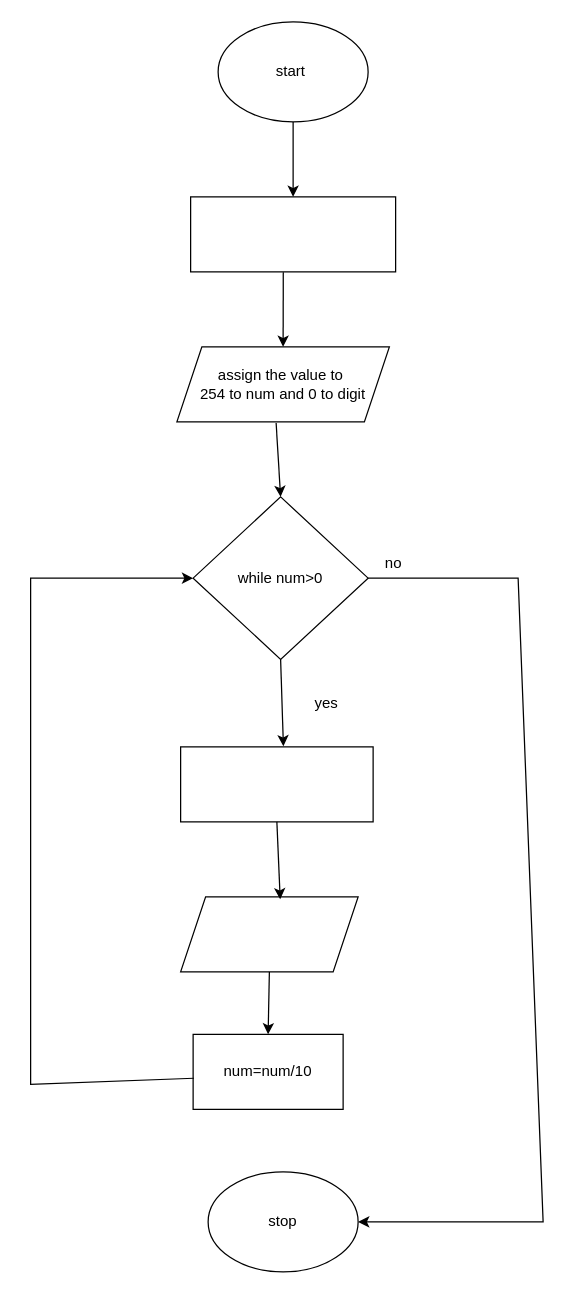
The diagram is 575 pixels wide and 1294 high, and some of its shapes have lost their labels. Each missing label, with the box of its shape:
declare num,digit: (189, 196, 396, 272)
digit= num%10: (179, 746, 373, 822)
print digit: (179, 896, 358, 972)
